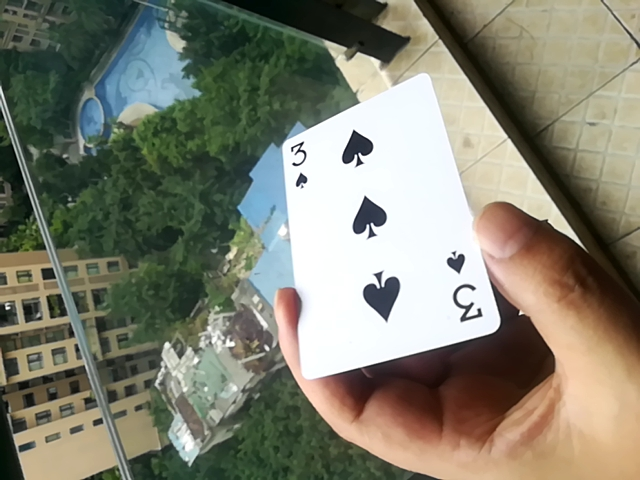ht 3: (277, 75, 498, 390)
